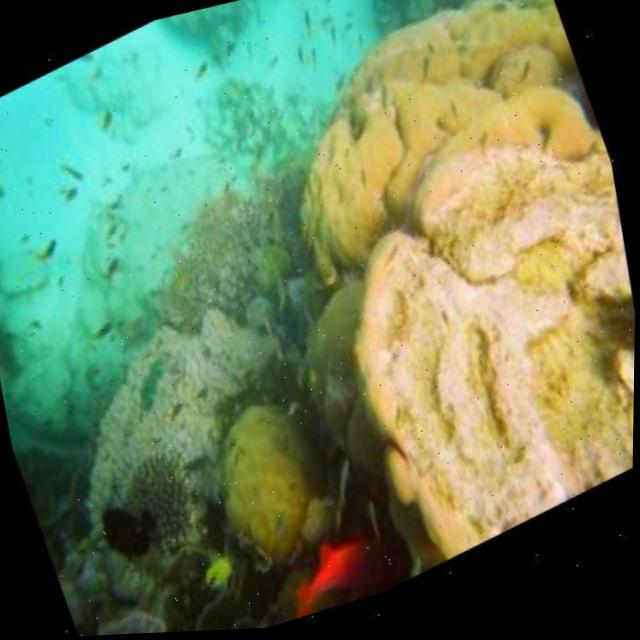Bleached Coral: (285, 82, 639, 597)
